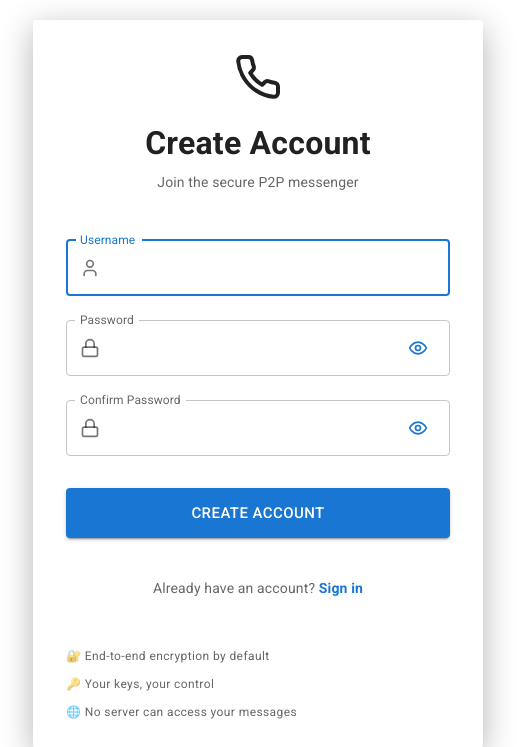
Test case: RegisterForm › shows validation error for short password
Type "testuser" into the field labelled "Username". click: point(279, 268)
box: [108, 240, 450, 296]
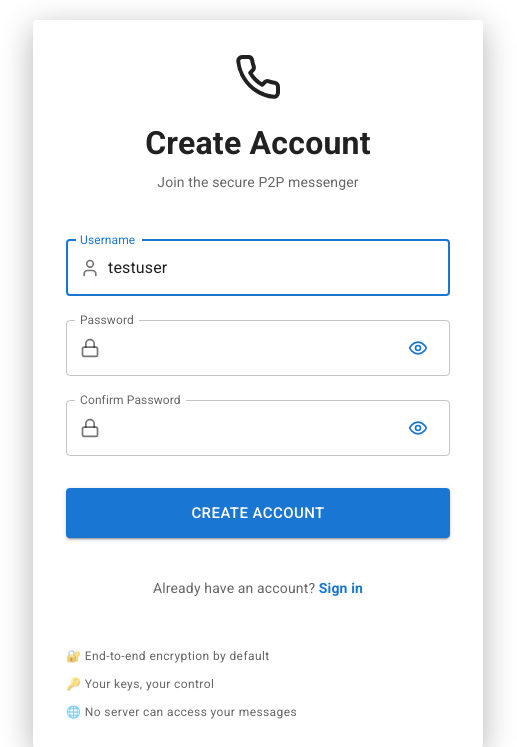
Type "1234567" into the password field labelled "Password". click: point(250, 348)
box: [108, 320, 392, 376]
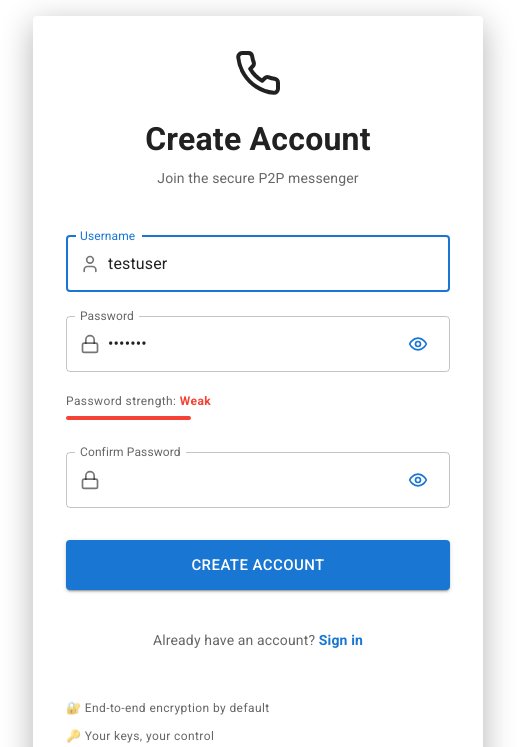
Click the button "Create Account". click: point(258, 565)
box: [66, 540, 450, 590]
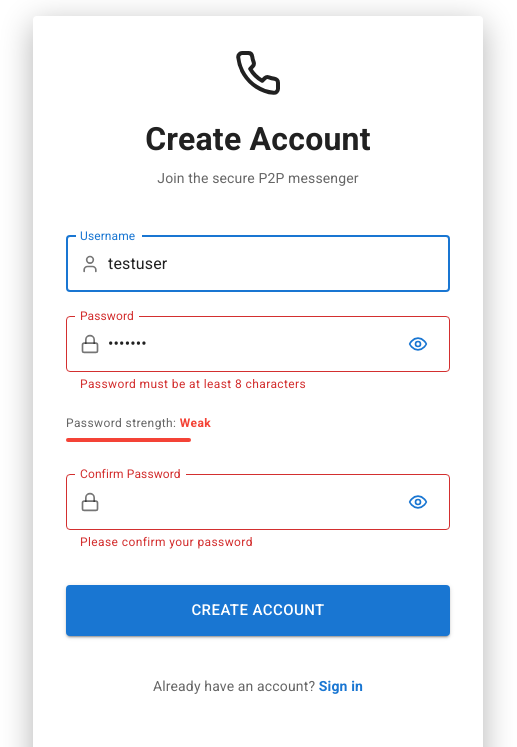
Result: the text "Password must be at least 8 characters" is shown at [80, 376, 306, 390]
